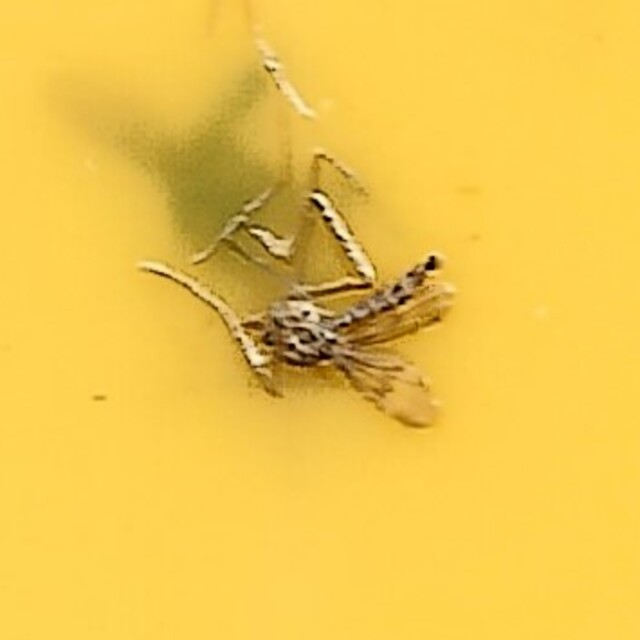Nematocera: (180, 203, 460, 437)
